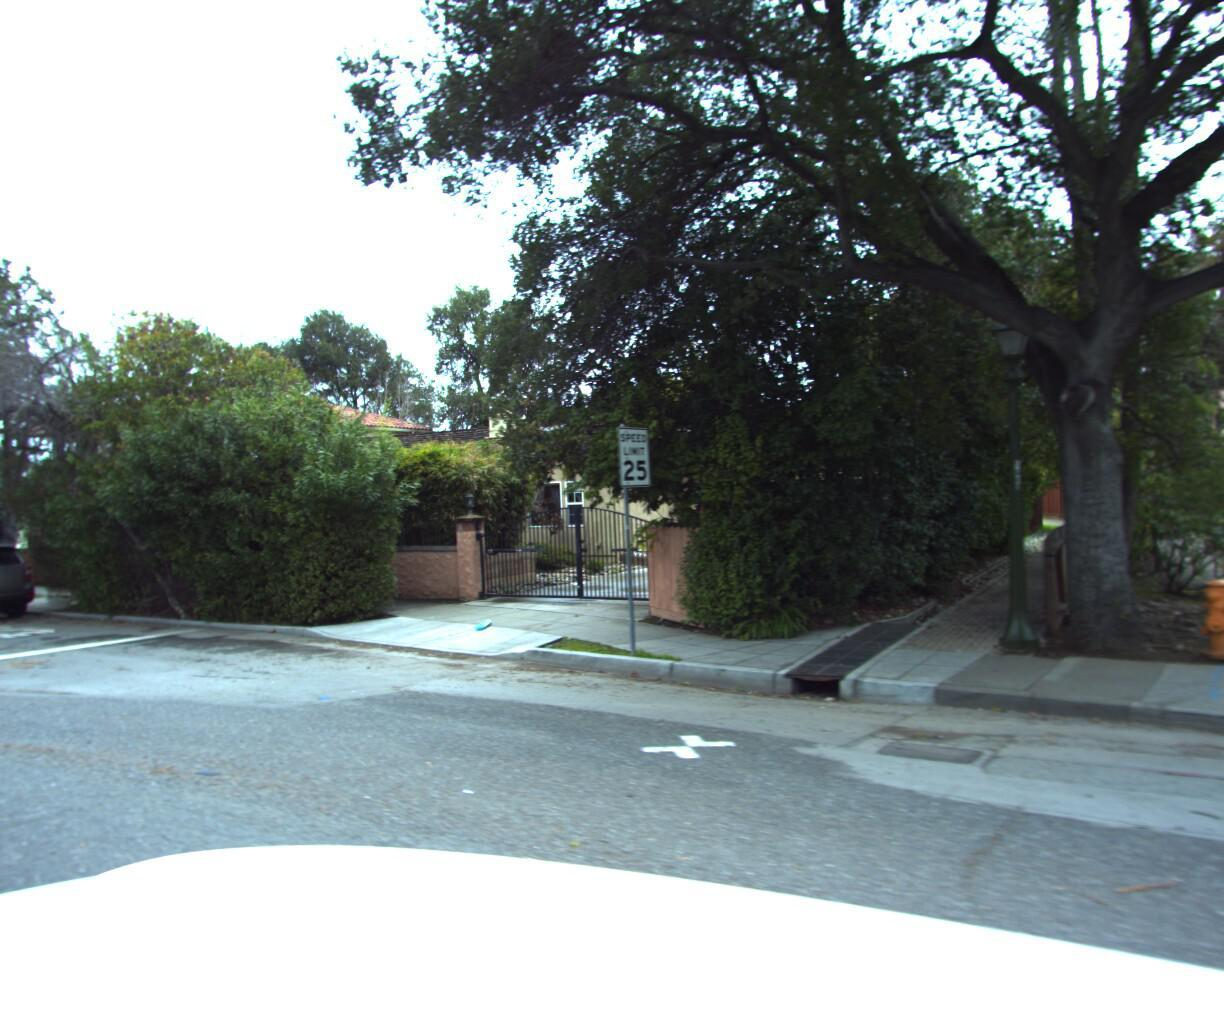car: (0, 531, 50, 627)
